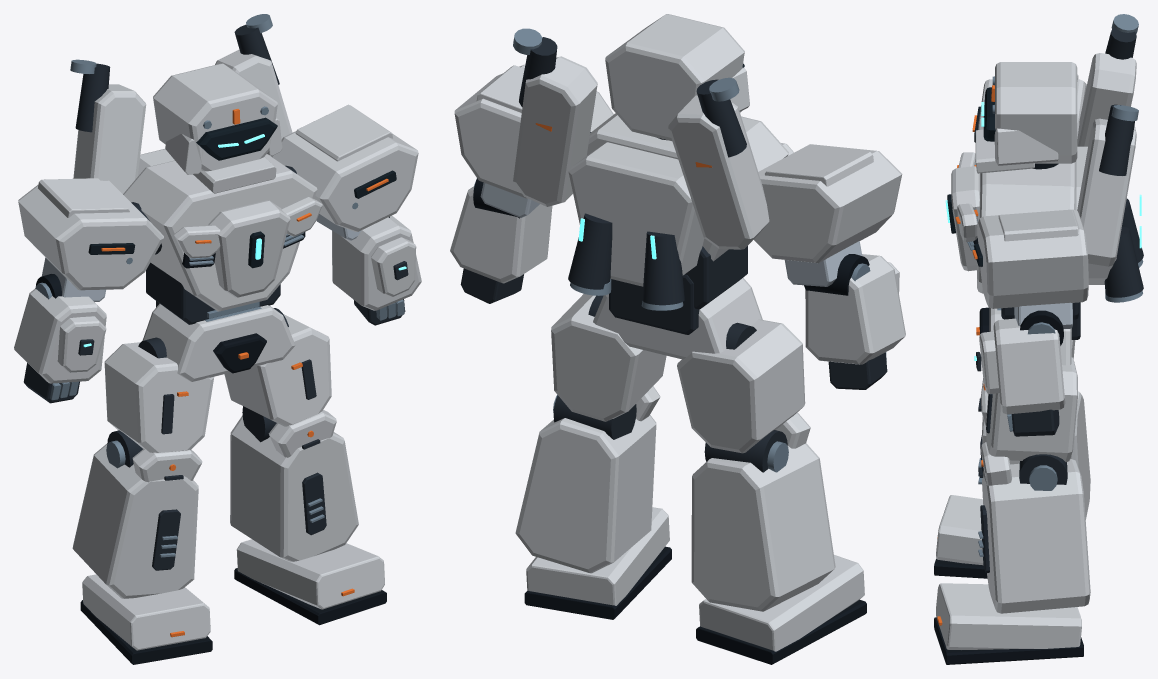
File: atlas.glb
3 views of the same model, side by side, from view 1: azimuth 30°, elevation 25°; view 2: azimuth 150°, elevation 25°; view 3: azimuth 270°, elevation 25° (orthographic). The views are drawn at different scales.
Parts seen in each view (by area): view 1: paint-right-shin, paint-left-shin, paint-chest, paint-left-shoulder, paint-right-shoulder, paint-helmet, paint-left-thigh, paint-right-thigh, paint-waist, paint-left-booster, paint-left-arm, paint-right-arm (+20 smaller); view 2: paint-left-shin, paint-right-shin, paint-left-shoulder, paint-left-thigh, paint-back, paint-helmet, paint-left-booster, paint-right-booster, paint-right-thigh, paint-left-arm, paint-right-shoulder, paint-right-arm (+17 smaller); view 3: paint-right-shin, paint-right-shoulder, paint-helmet, paint-chest, paint-right-arm, paint-right-booster, paint-left-shin, paint-right-thigh, paint-left-booster, detail-back-dark, detail-right-shin-recess, detail-right-booster-dark (+17 smaller).
Part boxes in pixels (x1,y1,x2,y2): paint-right-shin: (230, 415, 384, 609); paint-left-shin: (72, 443, 210, 650); paint-chest: (123, 154, 317, 311); paint-left-shoulder: (18, 178, 163, 290); paint-right-shoulder: (271, 104, 418, 231); paint-helmet: (153, 63, 282, 193); paint-left-thigh: (104, 342, 214, 452); paint-right-thigh: (224, 314, 331, 426); paint-waist: (142, 303, 295, 381); paint-left-booster: (73, 84, 146, 193); paint-left-arm: (14, 288, 106, 383); paint-right-arm: (332, 215, 421, 310); paint-left-shin: (691, 443, 864, 651); paint-right-shin: (515, 415, 669, 605); paint-left-shoulder: (753, 144, 902, 263); paint-left-thigh: (677, 319, 805, 453); paint-back: (568, 142, 704, 286); paint-helmet: (605, 14, 749, 140); paint-left-booster: (668, 95, 769, 249); paint-right-booster: (513, 56, 597, 206); paint-right-thigh: (551, 294, 666, 421); paint-left-arm: (805, 254, 905, 364); paint-right-shoulder: (454, 64, 613, 198); paint-right-arm: (450, 186, 552, 283); paint-right-shin: (936, 459, 1090, 649); paint-right-shoulder: (977, 209, 1088, 308); paint-helmet: (975, 62, 1077, 173); paint-chest: (951, 162, 1075, 293); paint-right-arm: (993, 318, 1065, 414); paint-right-booster: (1077, 118, 1136, 266); paint-left-shin: (936, 391, 1090, 565); paint-right-thigh: (986, 357, 1077, 462); paint-left-booster: (1077, 53, 1136, 146); detail-back-dark: (1104, 198, 1143, 297); detail-right-shin-recess: (934, 617, 1083, 664); detail-right-booster-dark: (1099, 104, 1134, 175).
Bounding box in the file's own units: 2.77 × 3.68 × 1.3.
